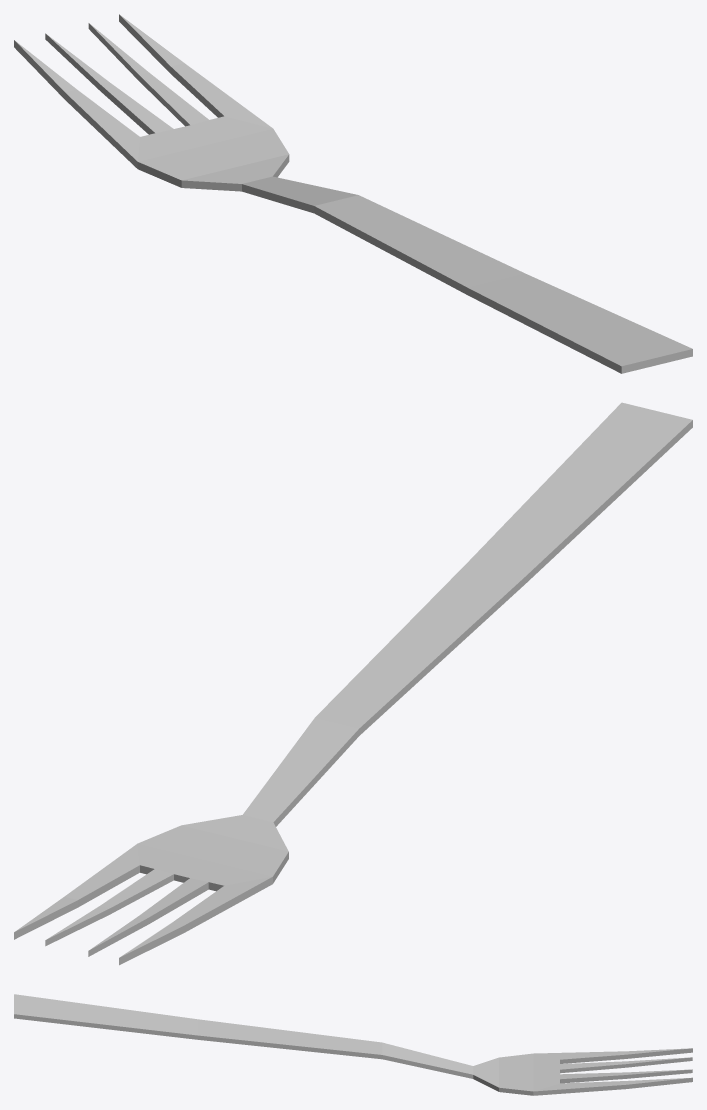
File: C_Fork.fbx
3 renders of one model, top to bottom at view 1: azimuth 30°, elevation 25°; view 2: azimuth 150°, elevation 25°; view 3: azimuth 270°, elevation 25°, orthographic. The views are drawn at different scales.
Parts seen in each view (by area): view 1: C_Fork; view 2: C_Fork; view 3: C_Fork.
Boxes of the visible parts, bbox=[...] form: C_Fork: bbox=[14, 14, 692, 373]; C_Fork: bbox=[14, 402, 692, 965]; C_Fork: bbox=[14, 994, 692, 1095].
Bounding box in the file's own units: 12.87 × 97.14 × 11.47.
